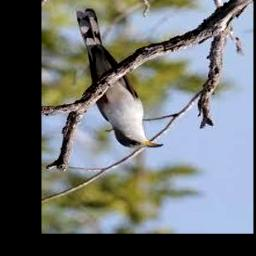Cuckoo: (76, 8, 163, 148)
